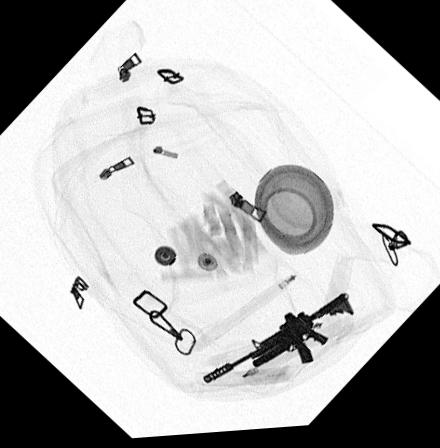Gun: (199, 295, 355, 389)
